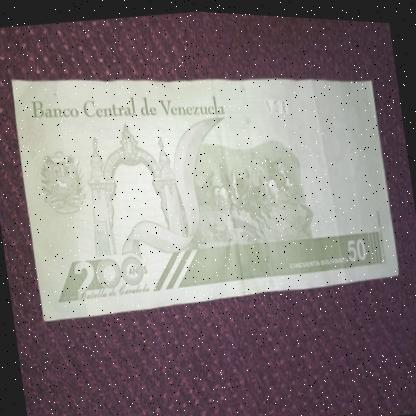vef_back: (8, 28, 402, 338)
